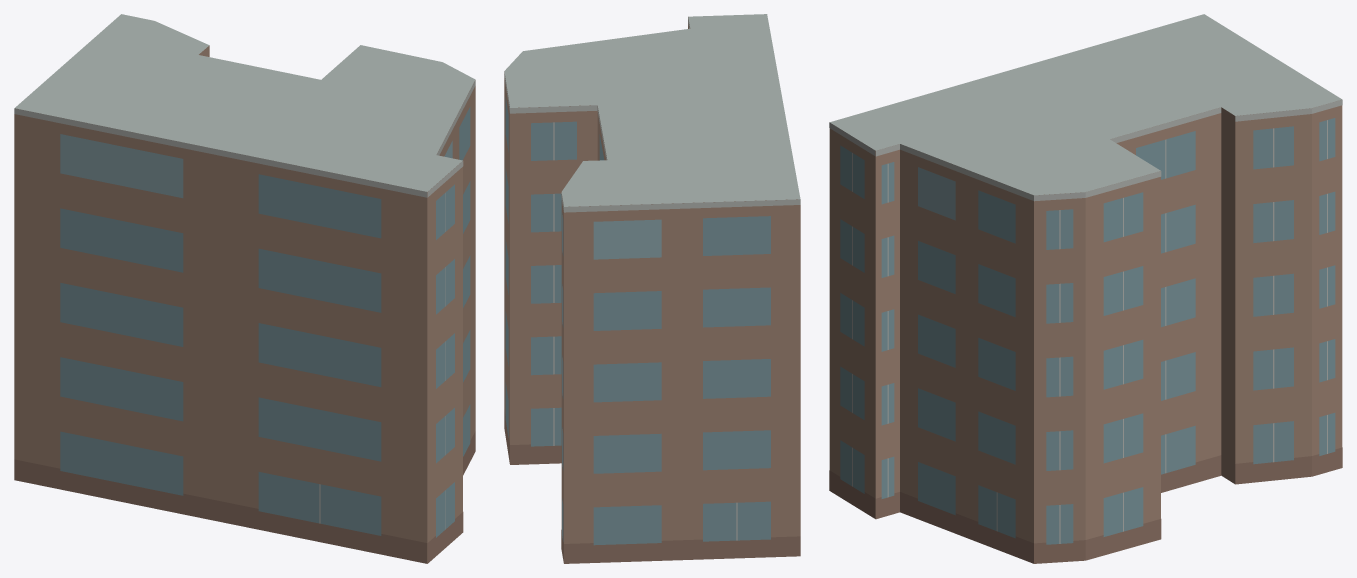
Rendered from survey-upis-32997647.glb.
3 renders of one model, left to right at view 1: azimuth 30°, elevation 25°; view 2: azimuth 150°, elevation 25°; view 3: azimuth 270°, elevation 25°, orthographic. The views are drawn at different scales.
Visible parts, largest first — view 1: survey-upis-32997647.tmp; view 2: survey-upis-32997647.tmp; view 3: survey-upis-32997647.tmp.
Boxes of the visible parts, x1,y1,x2,y2 form: survey-upis-32997647.tmp: (14,14,475,563); survey-upis-32997647.tmp: (504,14,800,563); survey-upis-32997647.tmp: (829,14,1342,563).
Bounding box in the file's own units: 16.37 × 15.5 × 19.56.
